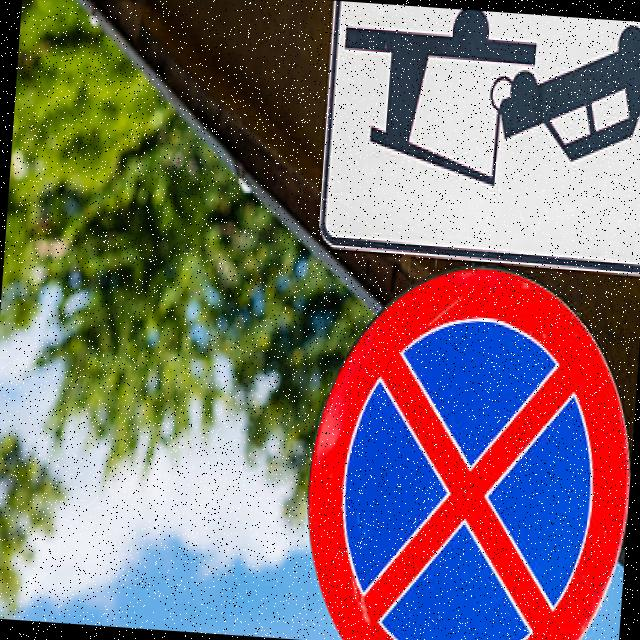no_parking: (290, 253, 639, 640)
